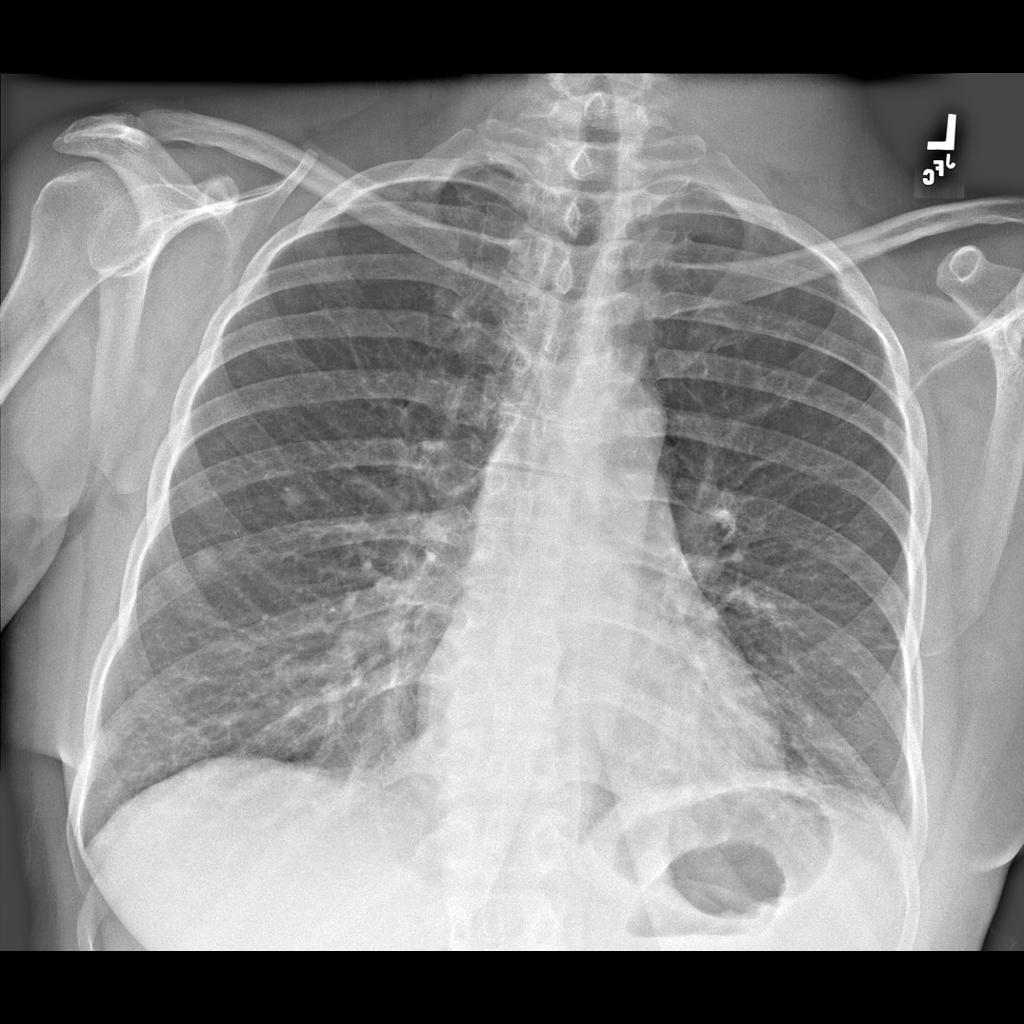Nodule: (268, 480, 314, 514)
